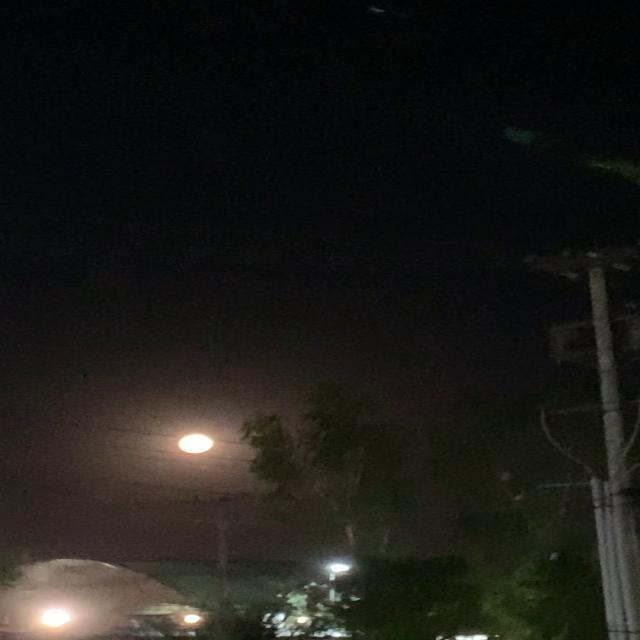moon: (180, 433, 222, 457)
